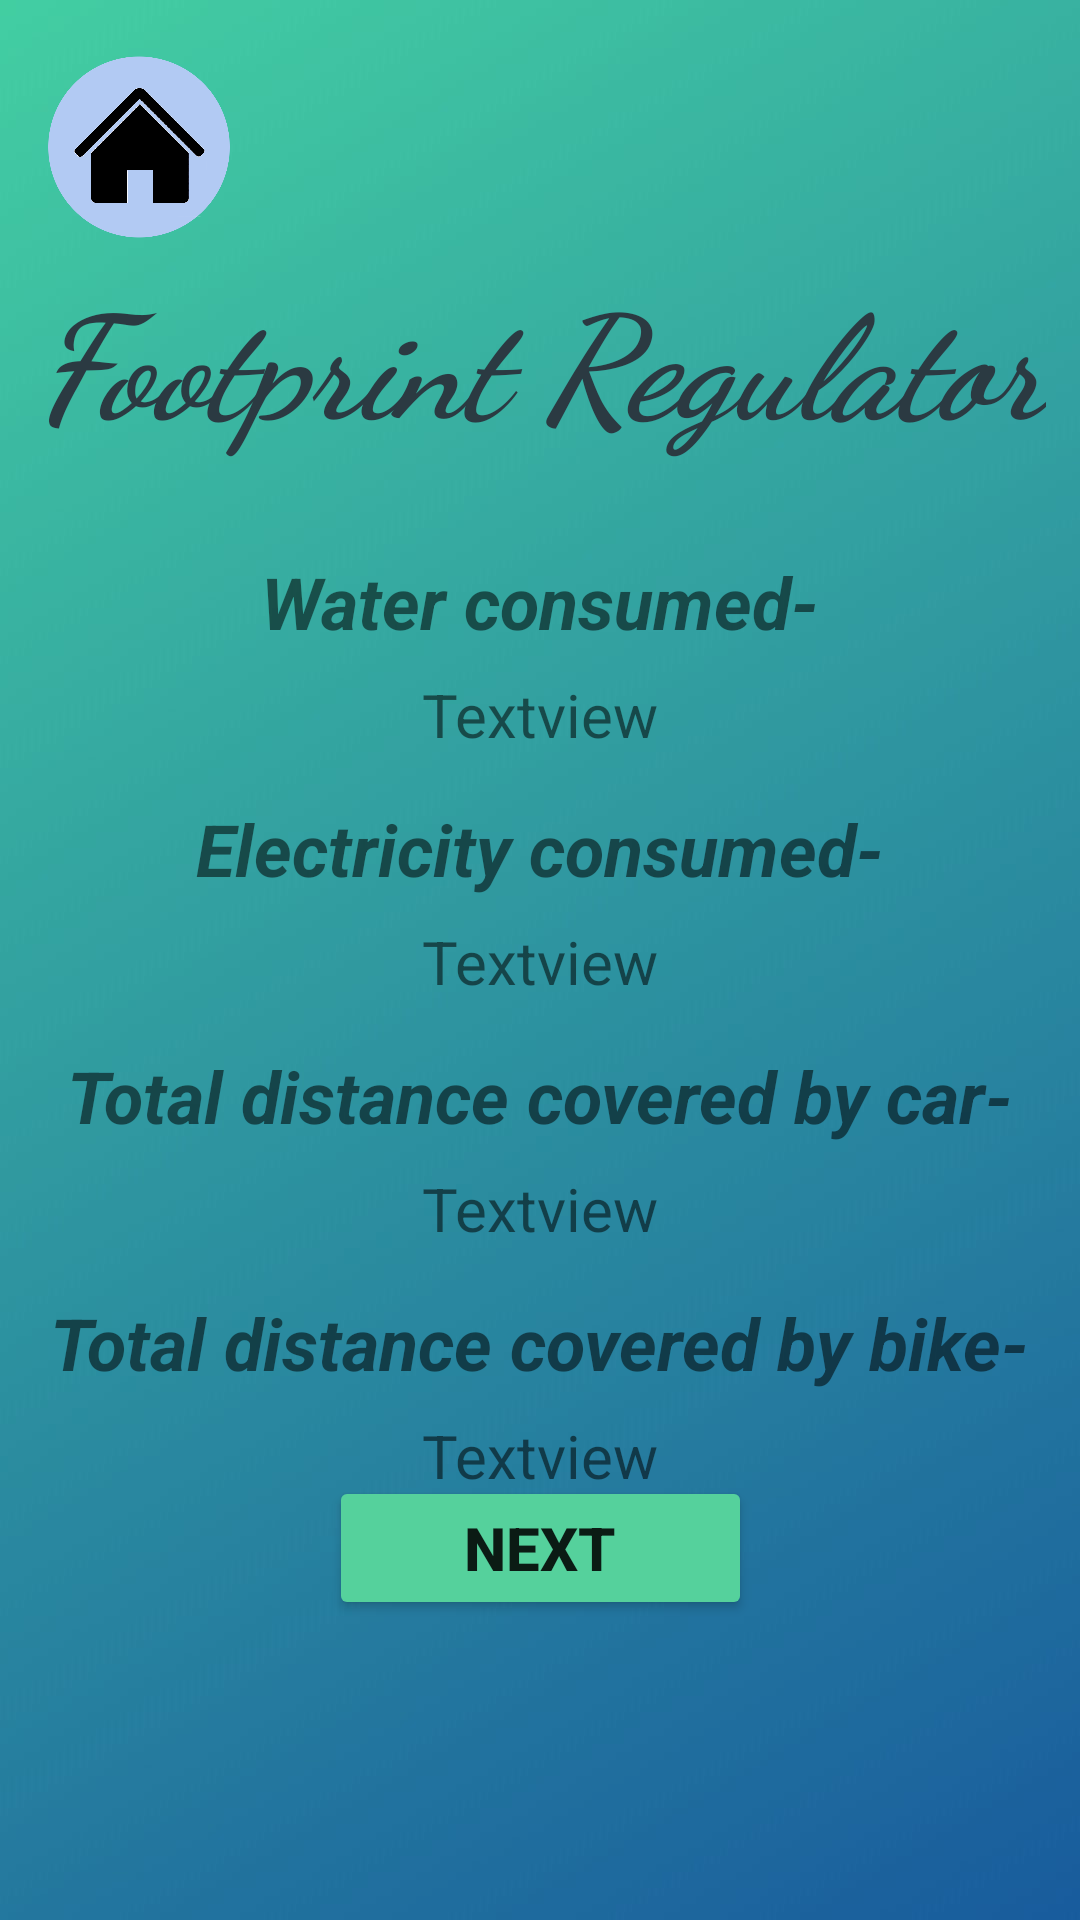

Where icons sit on this 1080 × 1920 app screen, as (x1, y1, x2, y2):
home: (48, 56, 230, 238)
